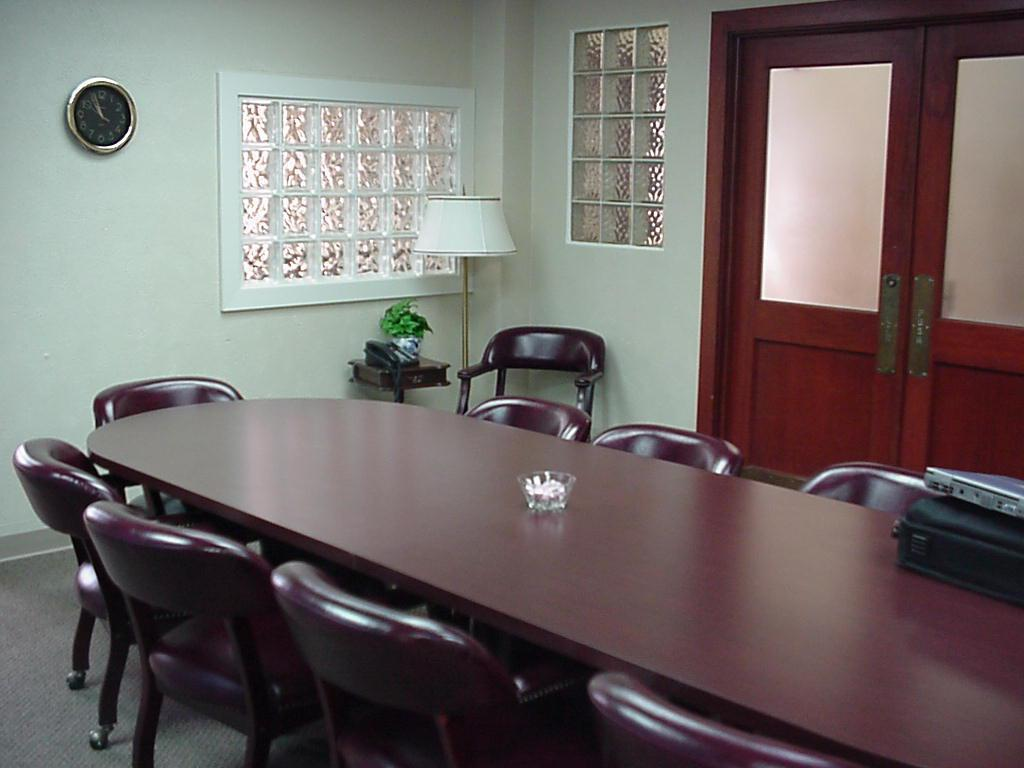Puerta: (723, 27, 1022, 464)
Ventana: (230, 94, 468, 292), (561, 27, 678, 251)
